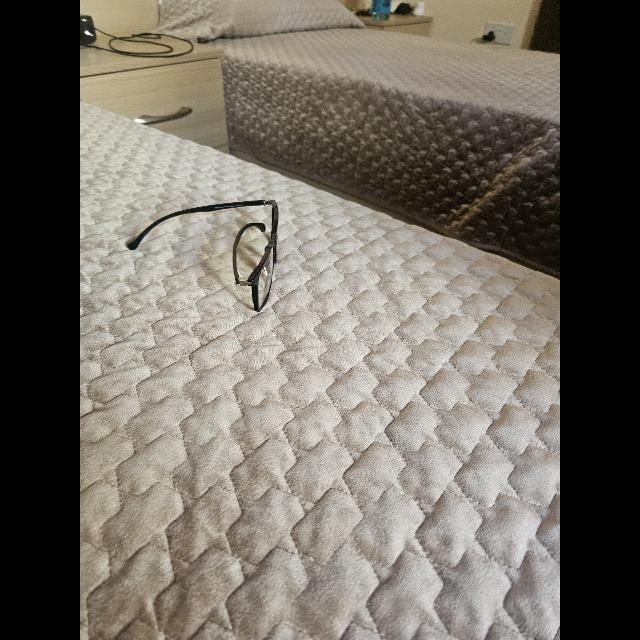glasses: (126, 200, 278, 312)
